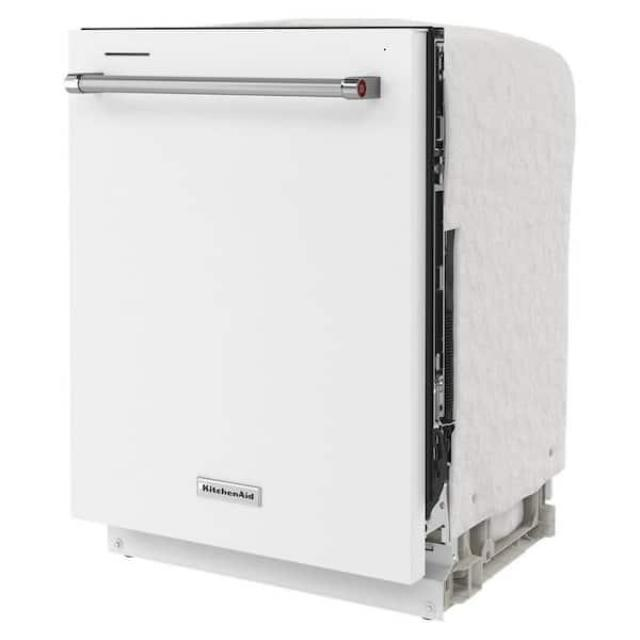dishwasher: (57, 22, 467, 613)
